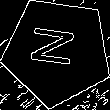N_E: (30, 28, 85, 75)
